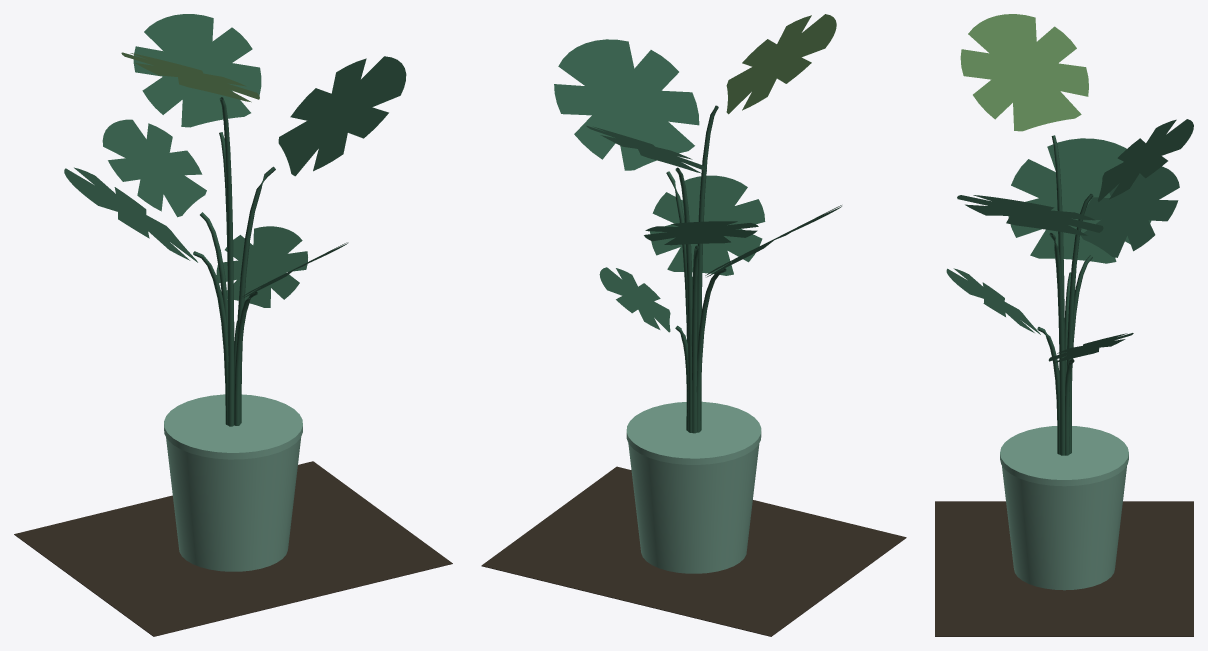
3 renders of one model, left to right at view 1: azimuth 30°, elevation 25°; view 2: azimuth 150°, elevation 25°; view 3: azimuth 270°, elevation 25°, orthographic. The views are drawn at different scales.
Parts seen in each view (by area): view 1: Footprint, Leaves, Pot, Stems, NewLeaf; view 2: Footprint, Leaves, Pot, Stems, NewLeaf; view 3: Footprint, Leaves, Pot, NewLeaf, Stems.
Boxes of the visible parts, x1,y1,x2,y2 form: Footprint: [14, 461, 452, 636]; Leaves: [64, 14, 406, 307]; Pot: [164, 394, 302, 571]; Stems: [193, 97, 275, 426]; NewLeaf: [121, 52, 259, 102]; Footprint: [481, 466, 906, 636]; Leaves: [554, 39, 841, 332]; Pot: [626, 401, 761, 573]; Stems: [666, 105, 726, 433]; NewLeaf: [726, 14, 836, 114]; Footprint: [935, 501, 1193, 636]; Leaves: [946, 119, 1193, 362]; Pot: [1000, 426, 1128, 590]; NewLeaf: [960, 14, 1088, 131]; Stems: [1037, 135, 1093, 455].
Bounding box in the file's own units: 0.5702 × 0.99 × 0.4611.
